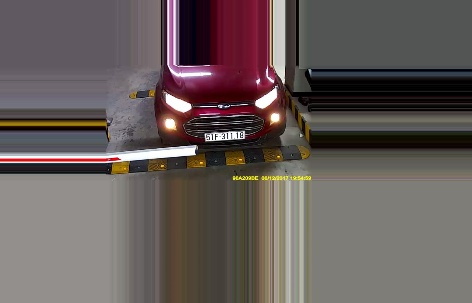plate: (203, 130, 246, 140)
